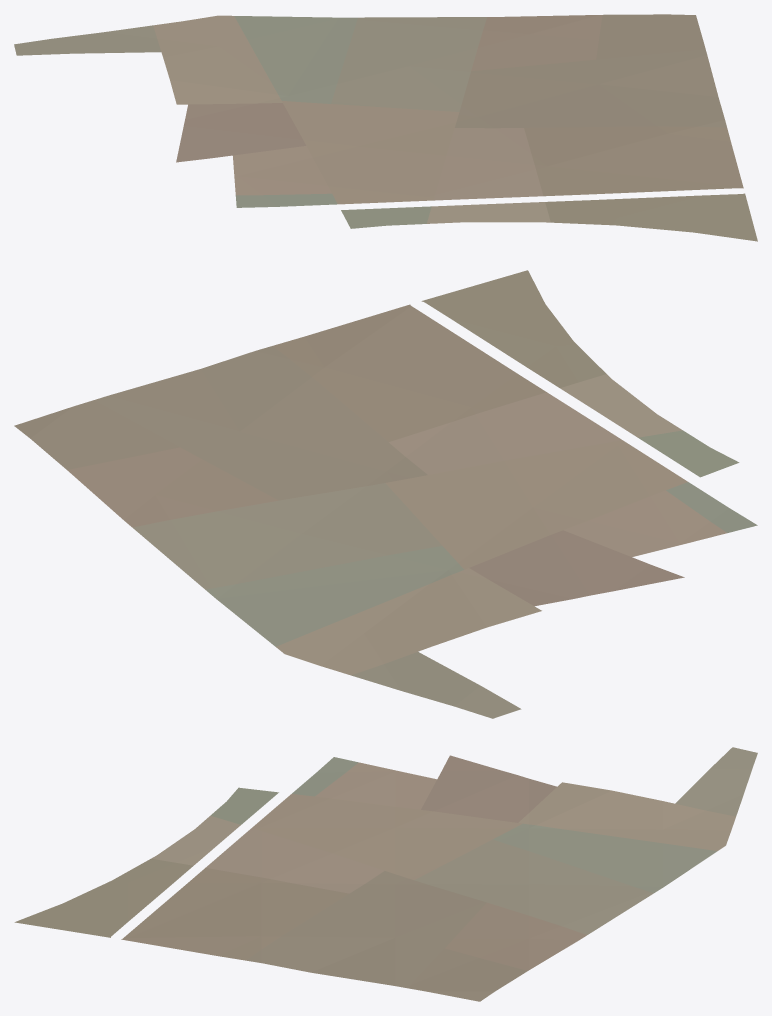
The model's file is farm_8_2_soil.glb.
3 views of the same model, one above another, from view 1: azimuth 30°, elevation 25°; view 2: azimuth 150°, elevation 25°; view 3: azimuth 270°, elevation 25° (orthographic). The views are drawn at different scales.
Parts seen in each view (by area): view 1: geometry_0; view 2: geometry_0; view 3: geometry_0.
Boxes of the visible parts, x1=… form: geometry_0: x1=14, y1=14, x2=757, y2=241; geometry_0: x1=14, y1=270, x2=757, y2=718; geometry_0: x1=14, y1=747, x2=757, y2=1001.
Bounding box in the file's own units: 364 × 5.79 × 444.
